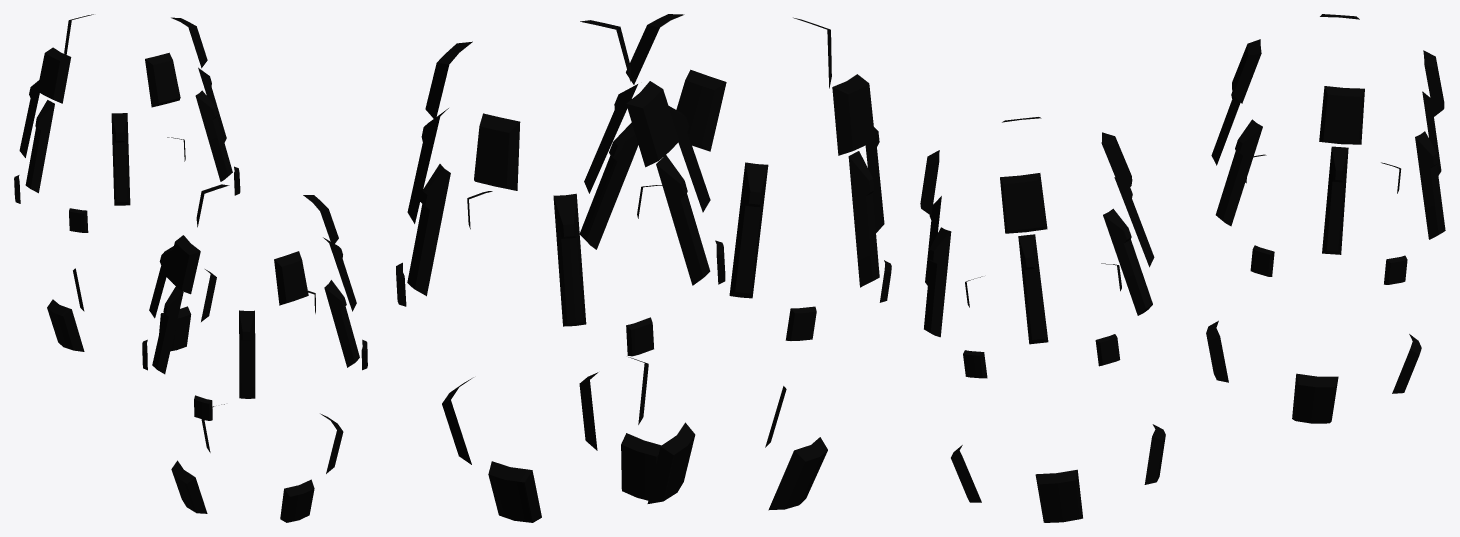
The model's file is prop_static_yao_container_02_06.glb.
The picture shows the model from 3 angles, left to right: view 1: azimuth 30°, elevation 25°; view 2: azimuth 150°, elevation 25°; view 3: azimuth 270°, elevation 25°; orthographic projection. The views are drawn at different scales.
Visible parts, largest first — view 1: yao_container_02_06_LOD0; view 2: yao_container_02_06_LOD0; view 3: yao_container_02_06_LOD0.
Boxes of the visible parts, x1,y1,x2,y2 form: yao_container_02_06_LOD0: (14,14,367,522); yao_container_02_06_LOD0: (396,14,891,522); yao_container_02_06_LOD0: (920,14,1445,522).
Size of what is drawn, in the model's own units: 1.42 by 2.53 by 2.7.
Materials: 1 (1 with a texture image).
